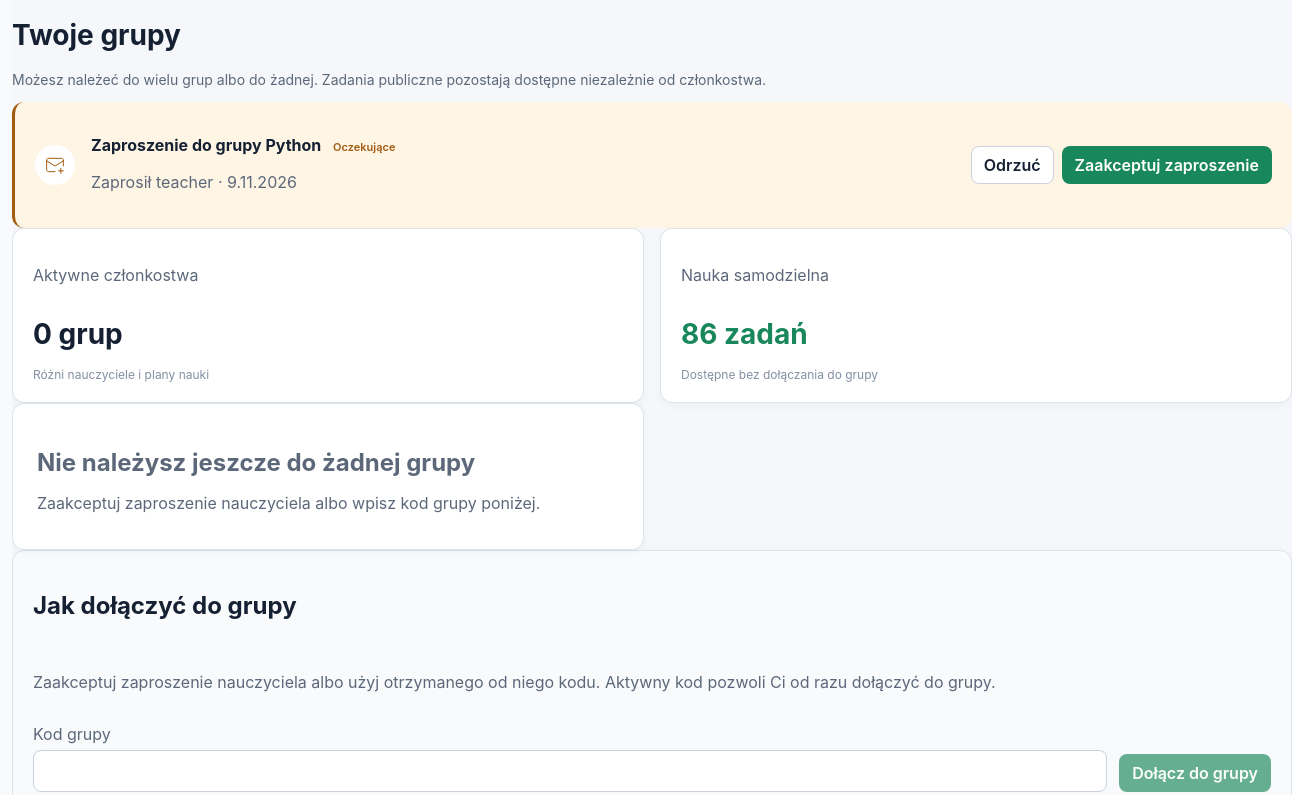
Test: accepts an invitation and reloads the membership list
This screenshot has width=1292, height=795.
Click the button "Zaakceptuj zaproszenie": (1167, 165) [1062, 146, 1272, 184]
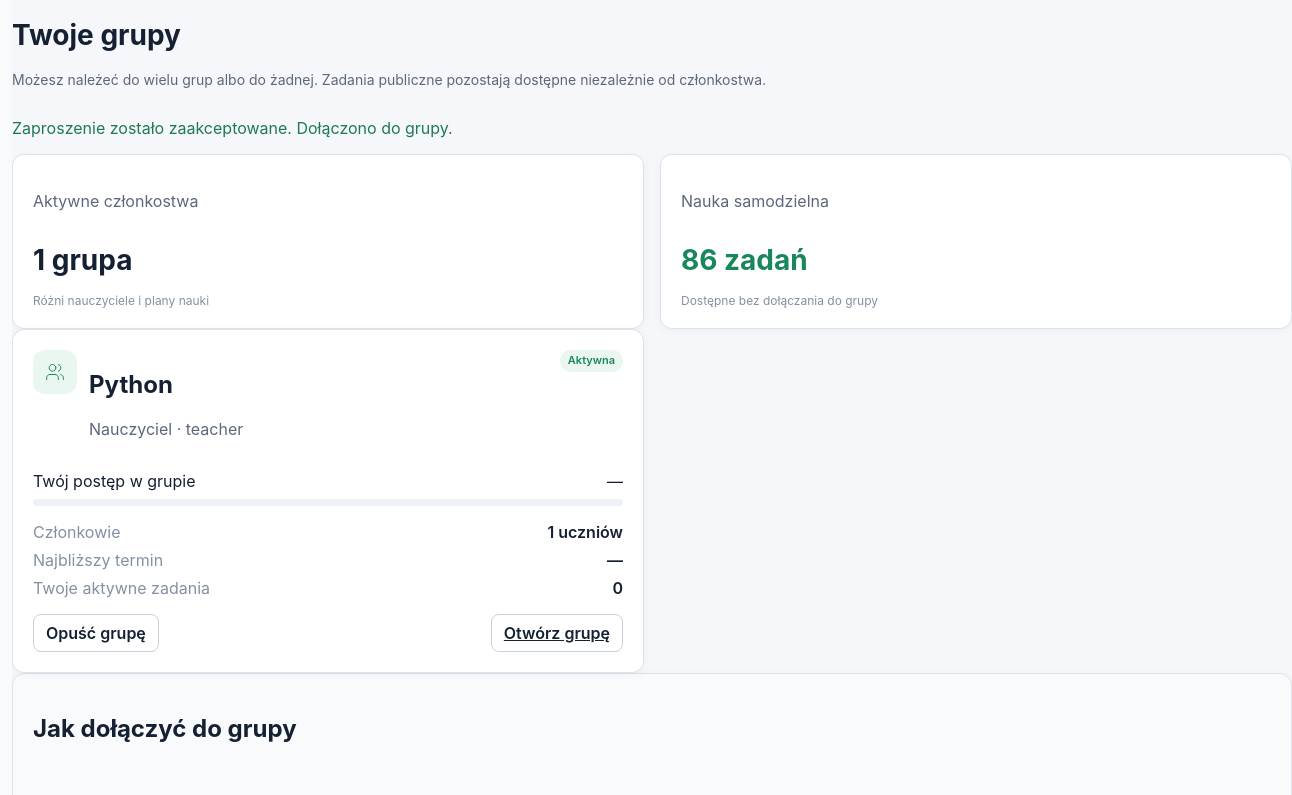
Check: the text "Zaproszenie zostało zaakceptowane. Dołączono do grupy." is shown, box [12, 118, 453, 138]
Check: the link with aria-label "Otwórz grupę Python" is shown, box [491, 614, 623, 652]
